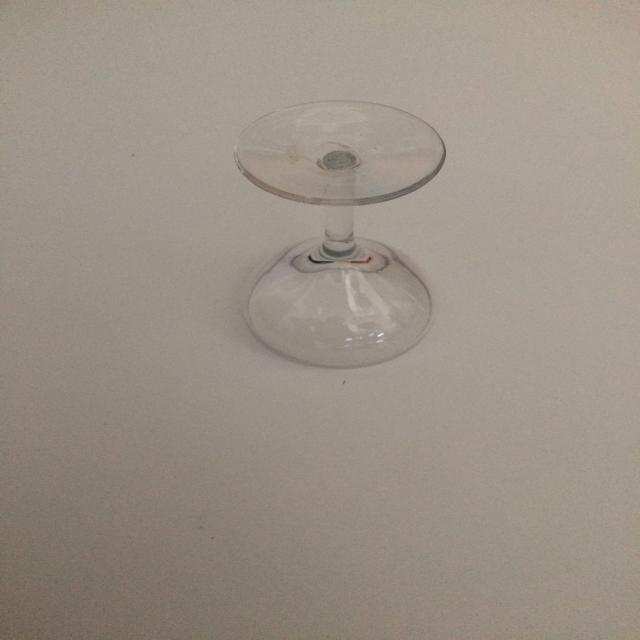glass: (231, 100, 446, 368)
